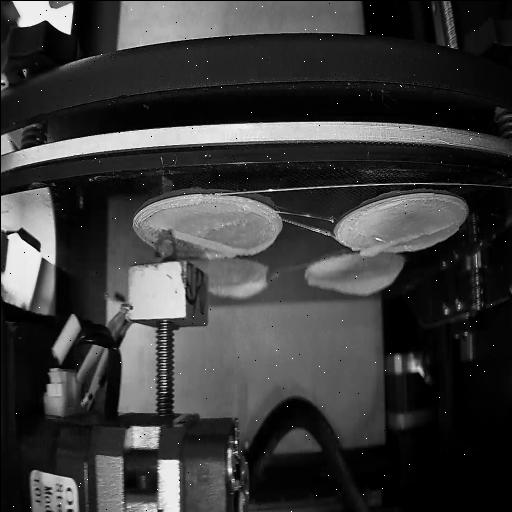over_extrusion: (359, 224, 448, 260), (305, 266, 400, 298), (174, 228, 240, 258), (208, 271, 270, 300)
